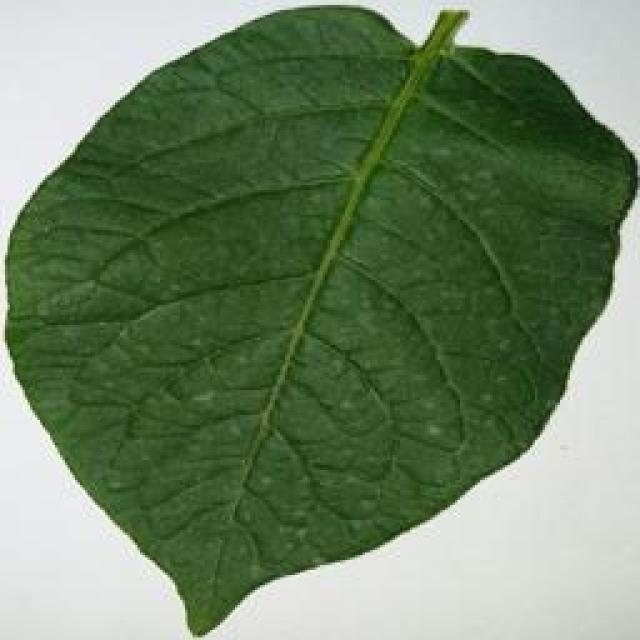Potato_Healthy: (10, 6, 625, 636)
